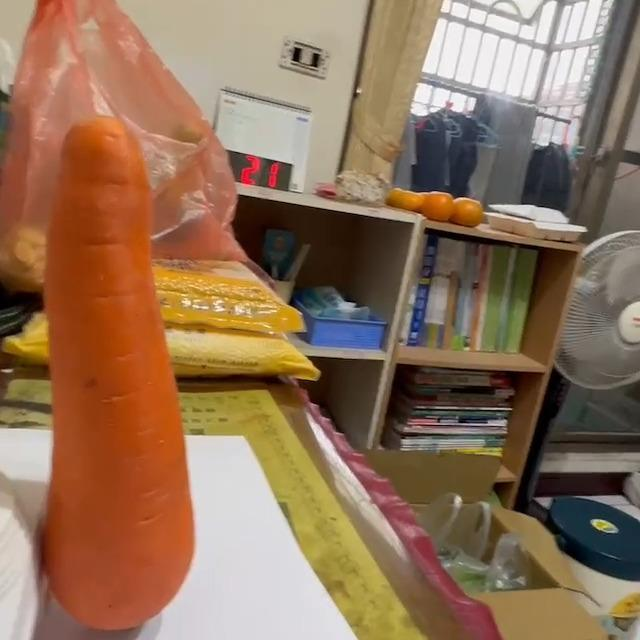carrot: (41, 112, 198, 634)
